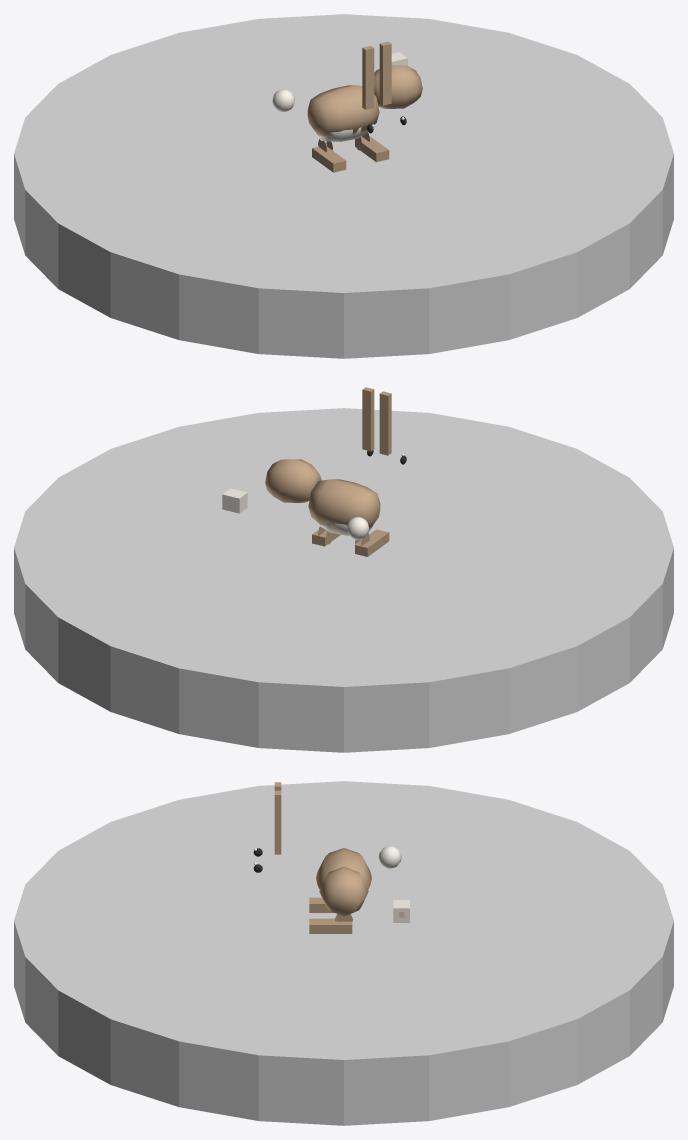
The model's file is 36-Fauna_conejo.glb.
The picture shows the model from 3 angles, top to bottom: view 1: azimuth 30°, elevation 25°; view 2: azimuth 150°, elevation 25°; view 3: azimuth 270°, elevation 25°; orthographic projection.
Parts seen in each view (by area): view 1: Base_Arena, SM_Conejo_Cuerpo, SM_Conejo_Cabeza, SM_Conejo_Oreja_I, SM_Conejo_Oreja_D, SM_Conejo_Pie_T_I, SM_Conejo_Pie_T_D; view 2: Base_Arena, SM_Conejo_Cuerpo, SM_Conejo_Cabeza, SM_Conejo_Oreja_I, SM_Conejo_Oreja_D, SM_Conejo_Pie_T_I, SM_Conejo_Hocico; view 3: Base_Arena, SM_Conejo_Cabeza, SM_Conejo_Cuerpo, SM_Conejo_Pie_T_D, SM_Conejo_Oreja_D.
Part boxes in pixels (x1,y1,x2,y2): Base_Arena: (14, 14, 673, 358); SM_Conejo_Cuerpo: (307, 85, 379, 136); SM_Conejo_Cabeza: (374, 65, 422, 108); SM_Conejo_Oreja_I: (362, 46, 374, 109); SM_Conejo_Oreja_D: (379, 41, 391, 105); SM_Conejo_Pie_T_I: (312, 146, 346, 172); SM_Conejo_Pie_T_D: (355, 136, 389, 162); Base_Arena: (14, 408, 673, 752); SM_Conejo_Cuerpo: (308, 479, 380, 529); SM_Conejo_Cabeza: (265, 459, 321, 502); SM_Conejo_Oreja_I: (379, 391, 391, 455); SM_Conejo_Oreja_D: (362, 387, 374, 451); SM_Conejo_Pie_T_I: (355, 529, 389, 556); SM_Conejo_Hocico: (222, 488, 247, 513); Base_Arena: (14, 781, 673, 1125); SM_Conejo_Cabeza: (319, 866, 368, 915); SM_Conejo_Cuerpo: (316, 848, 371, 889); SM_Conejo_Pie_T_D: (309, 918, 352, 933); SM_Conejo_Oreja_D: (274, 790, 281, 854).
Bounding box in the file's own units: 2 × 0.661 × 2.
